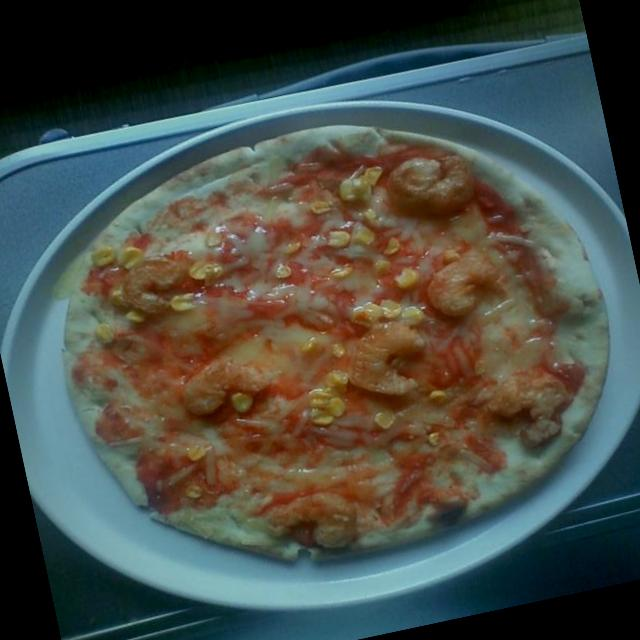Pizza: (27, 61, 640, 597)
